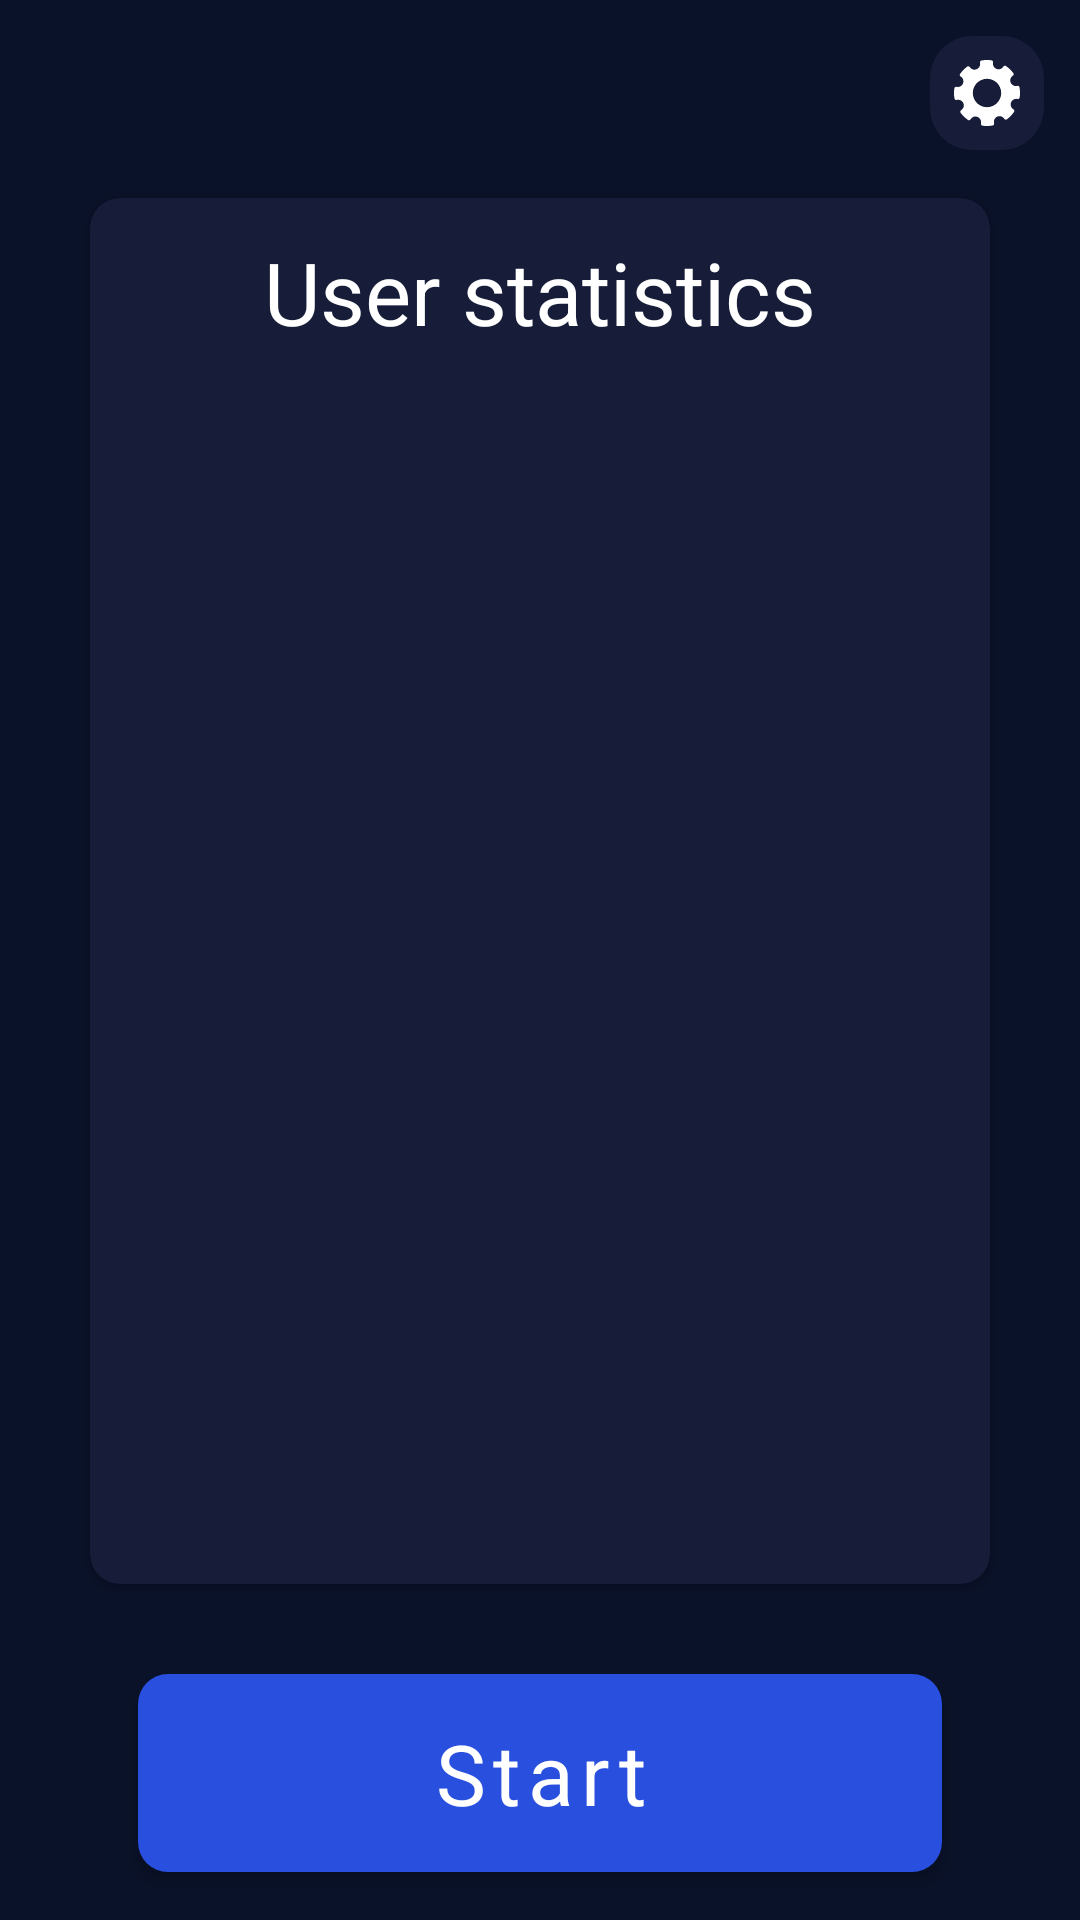

Icons on this 1080 × 1920 Android screen, each with its box as (x1, y1, x2, y2):
settings: (954, 60, 1020, 126)
